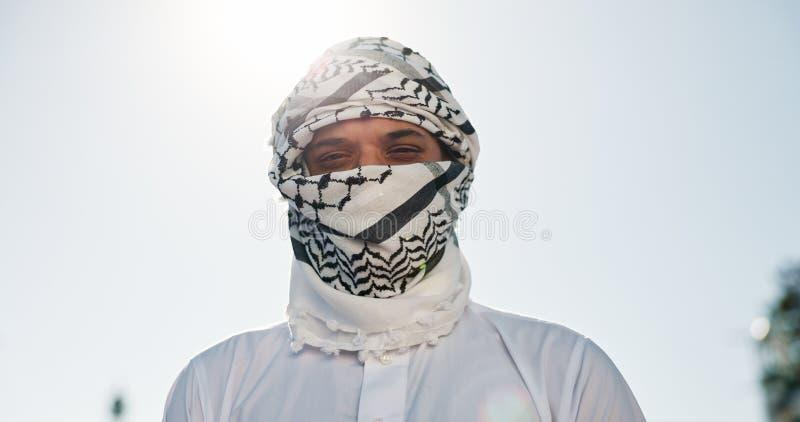scarf-kerchief: (254, 14, 498, 308)
